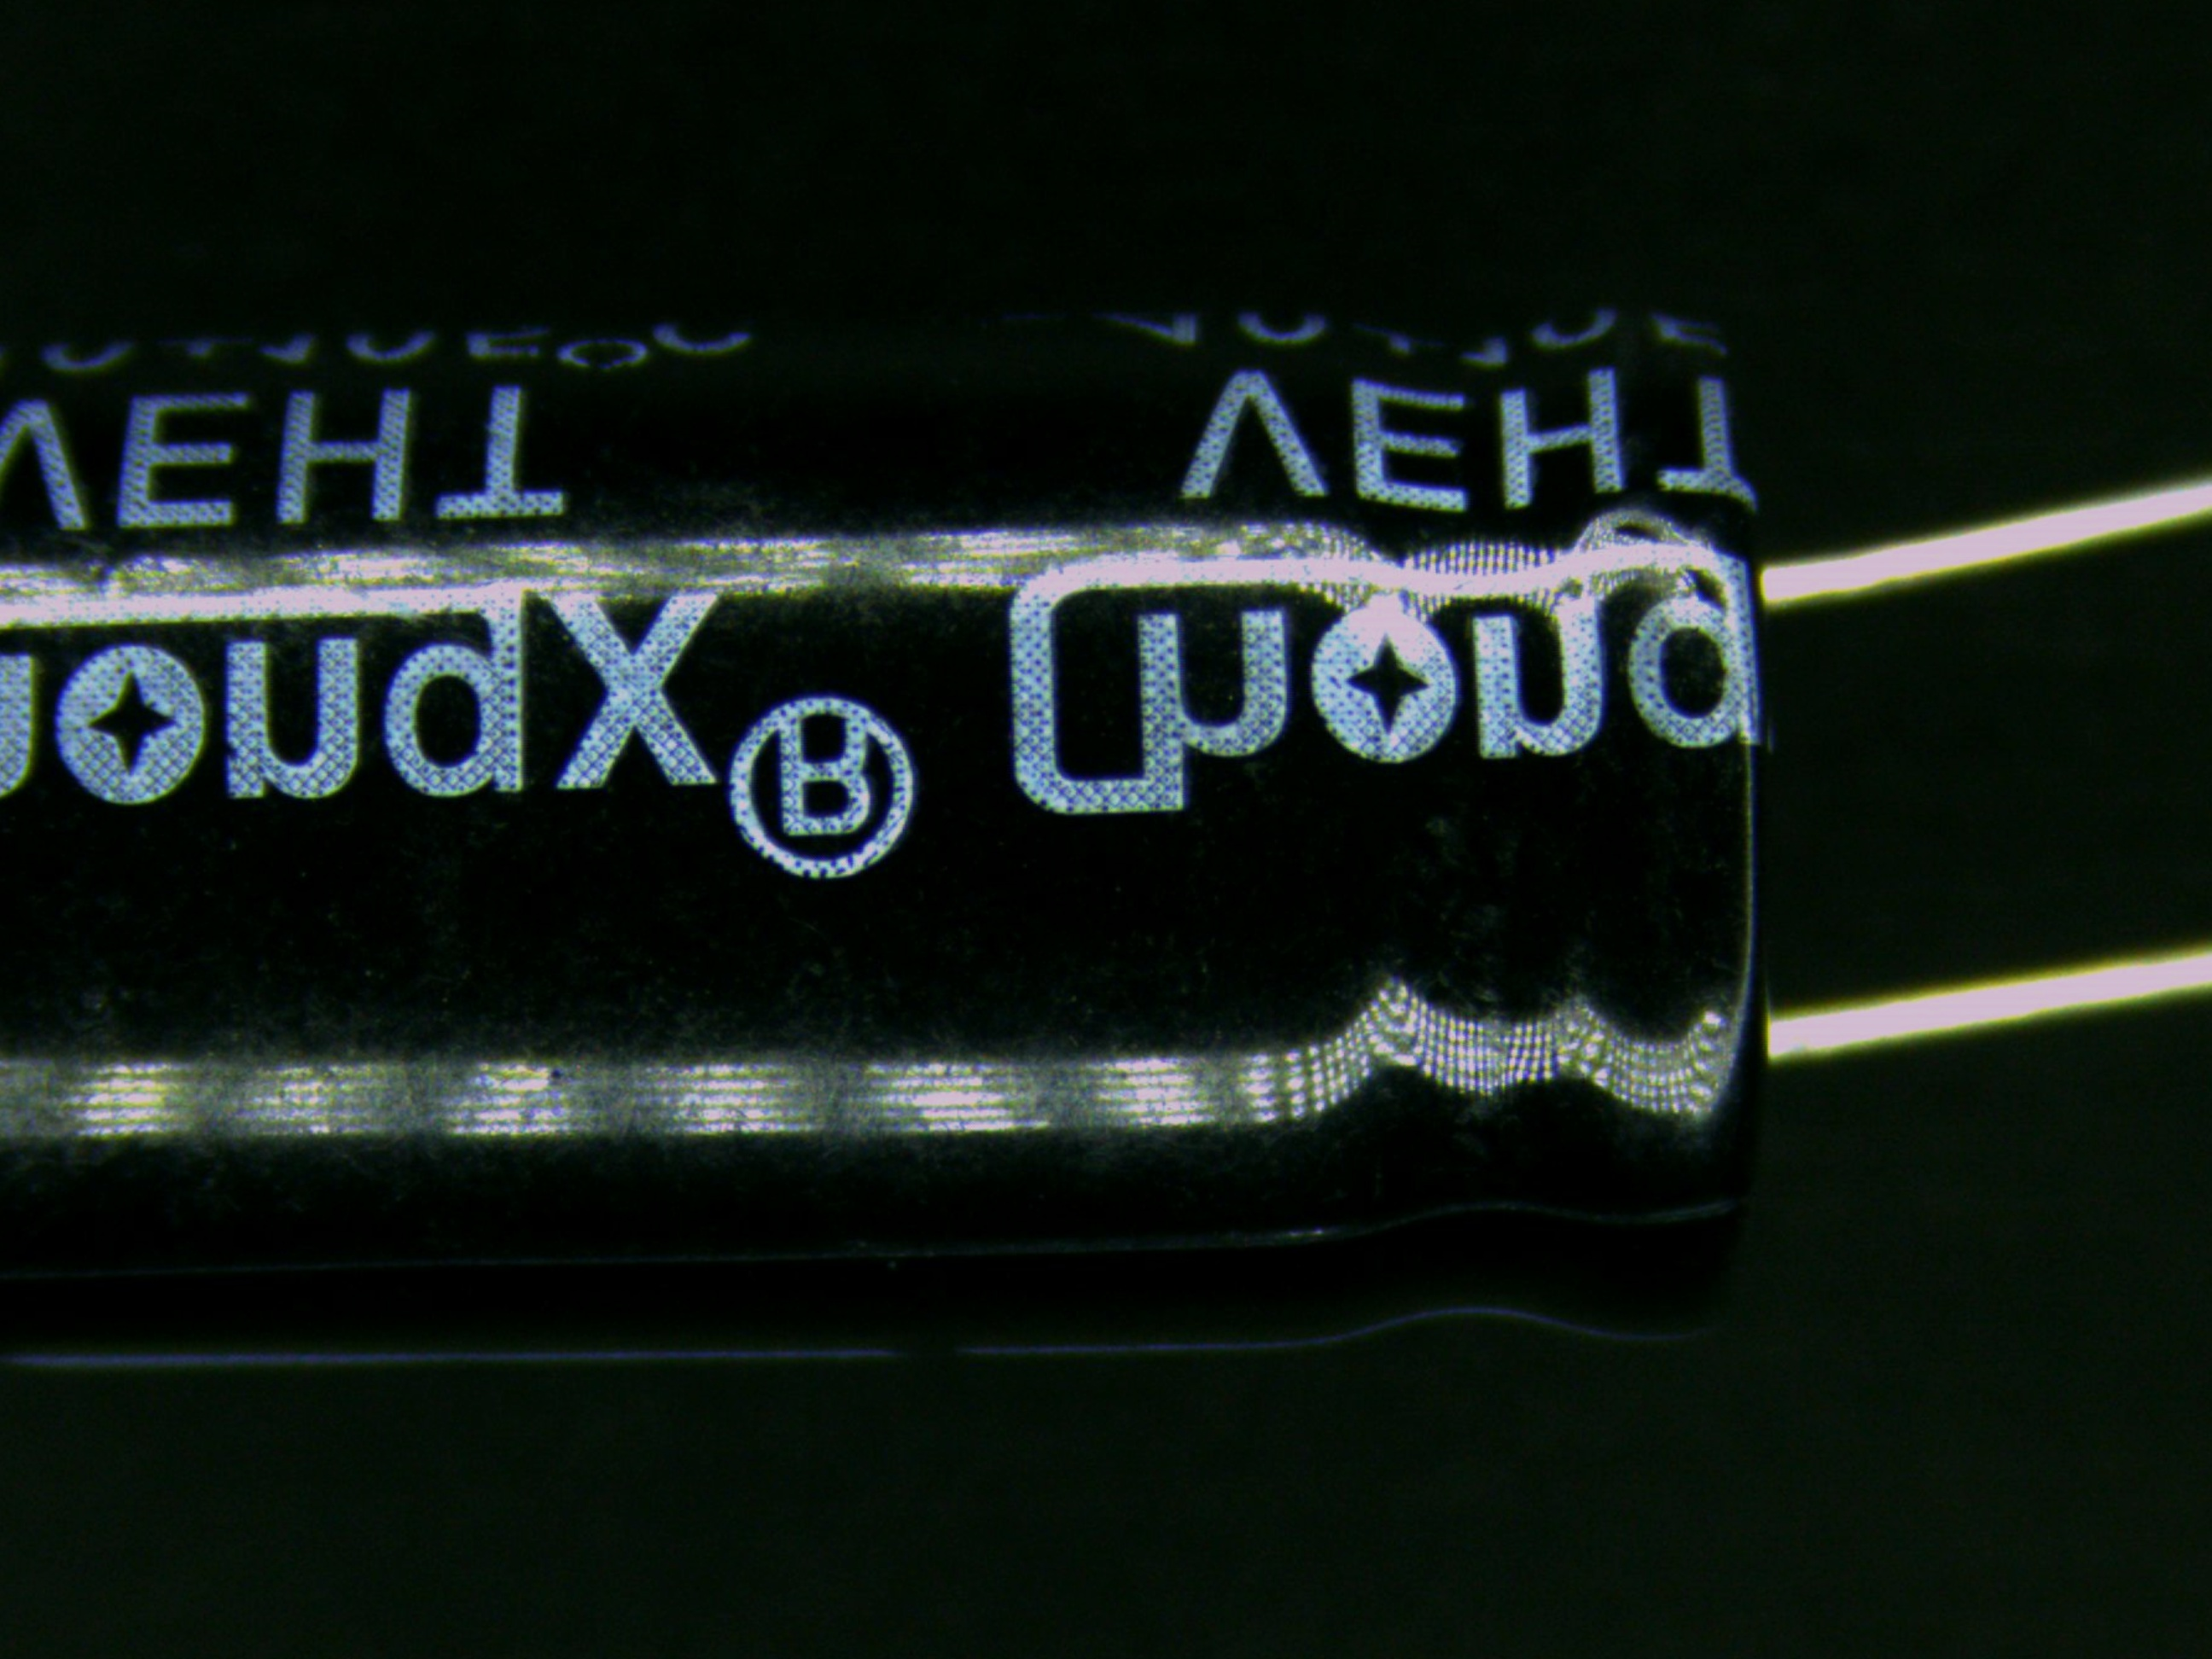c3: (0, 291, 2141, 1371)
